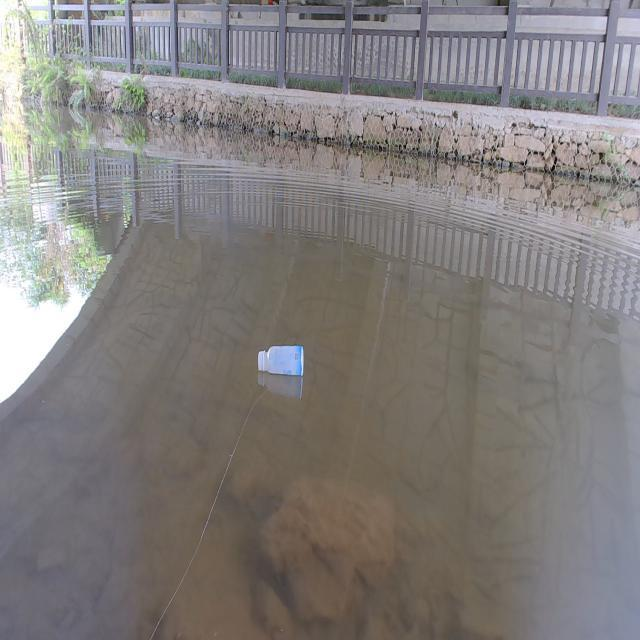bottle: (250, 328, 315, 392)
